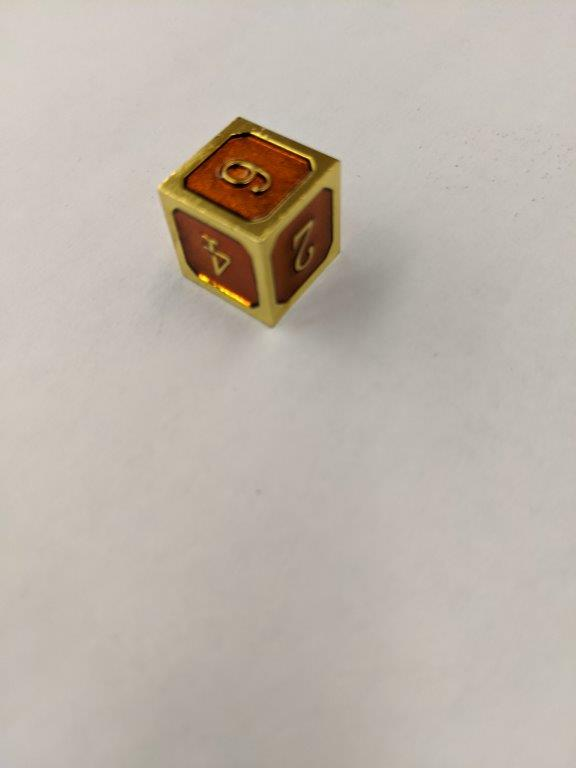d6-6: (153, 114, 347, 324)
